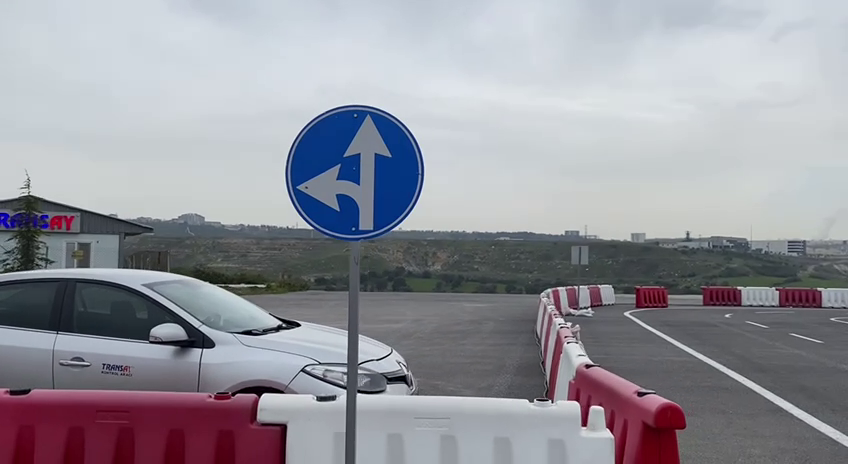forwardAndLeft: (282, 98, 426, 242)
